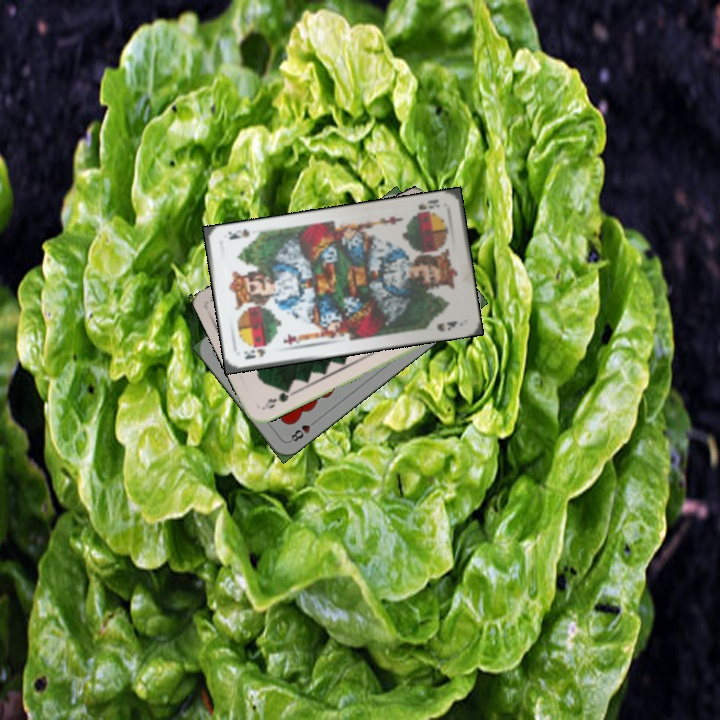G9: (259, 384, 297, 412)
H8: (285, 415, 320, 445)
SK: (407, 195, 442, 218), (240, 345, 268, 362)
